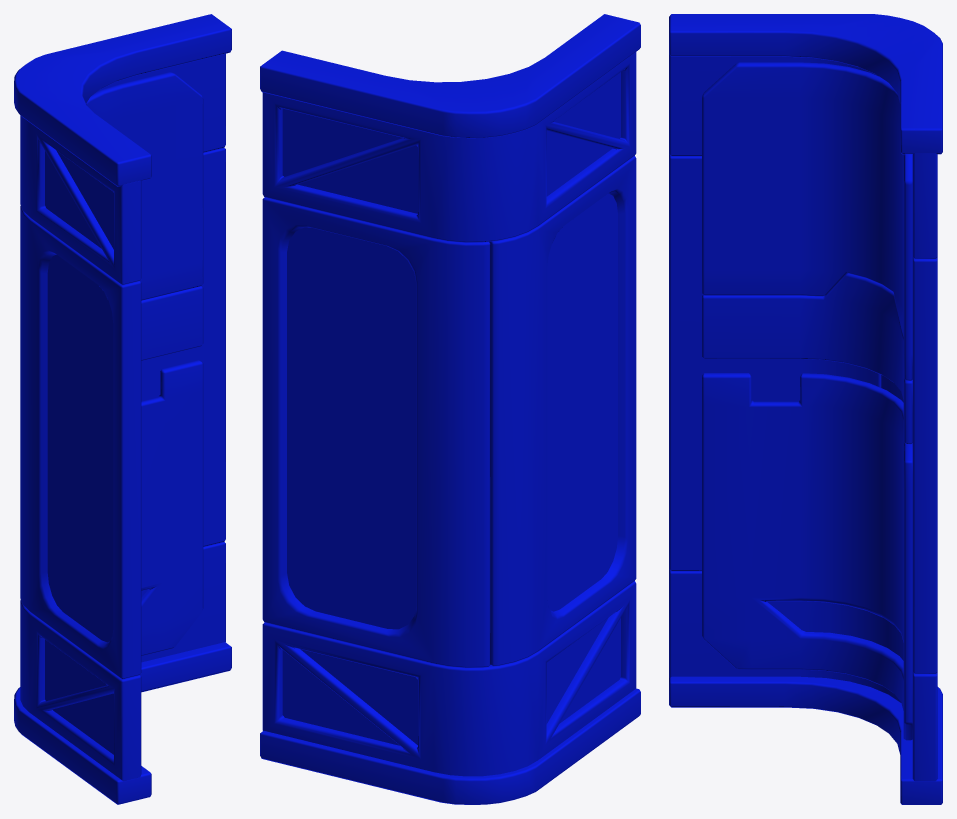
Rendered from WallAngle01.fbx.
The picture shows the model from 3 angles, left to right: view 1: azimuth 30°, elevation 25°; view 2: azimuth 150°, elevation 25°; view 3: azimuth 270°, elevation 25°; orthographic projection. The views are drawn at different scales.
Parts seen in each view (by area): view 1: SM_WallAngle01; view 2: SM_WallAngle01; view 3: SM_WallAngle01.
Boxes of the visible parts, x1,y1,x2,y2 form: SM_WallAngle01: (14, 14, 231, 804); SM_WallAngle01: (260, 14, 640, 804); SM_WallAngle01: (669, 14, 942, 804).
Bounding box in the file's own units: 1.1 × 3 × 1.1.
